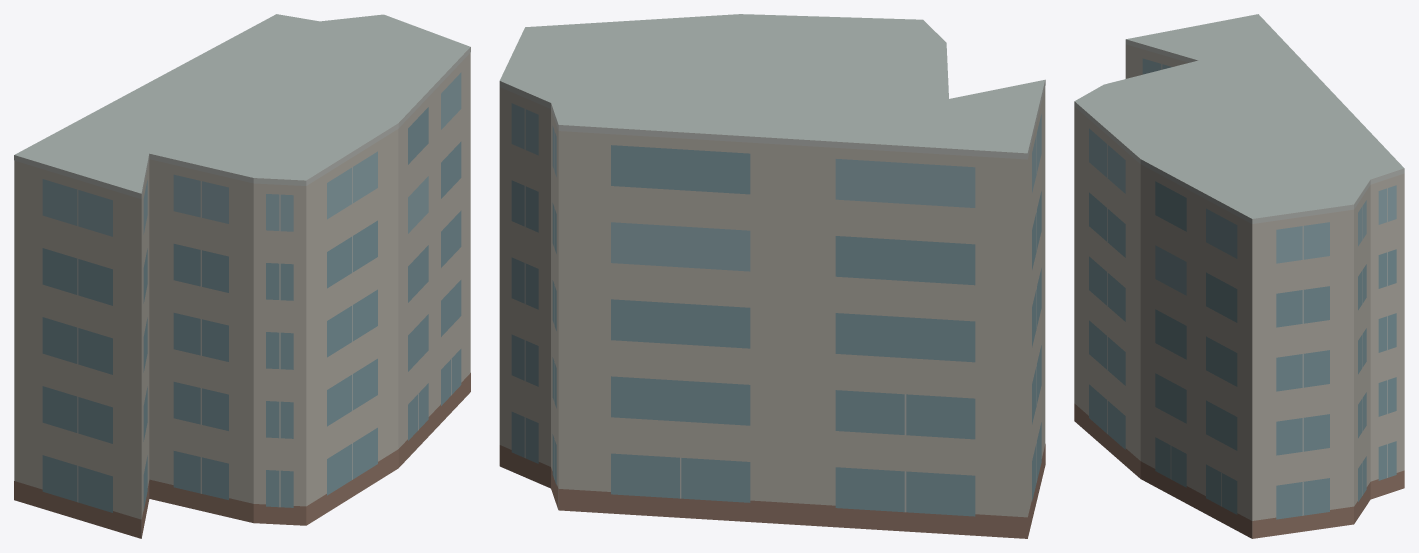
The model's file is residential-9bf0a8ed-4dc3-4db2-a111-f9f5bf4b8100.glb.
The picture shows the model from 3 angles, left to right: view 1: azimuth 30°, elevation 25°; view 2: azimuth 150°, elevation 25°; view 3: azimuth 270°, elevation 25°; orthographic projection. The views are drawn at different scales.
Parts seen in each view (by area): view 1: residential-9bf0a8ed-4dc3-4db2-a111-f9f5bf4b8100.tmp; view 2: residential-9bf0a8ed-4dc3-4db2-a111-f9f5bf4b8100.tmp; view 3: residential-9bf0a8ed-4dc3-4db2-a111-f9f5bf4b8100.tmp.
Boxes of the visible parts, x1,y1,x2,y2 form: residential-9bf0a8ed-4dc3-4db2-a111-f9f5bf4b8100.tmp: (14, 14, 470, 538); residential-9bf0a8ed-4dc3-4db2-a111-f9f5bf4b8100.tmp: (499, 14, 1045, 538); residential-9bf0a8ed-4dc3-4db2-a111-f9f5bf4b8100.tmp: (1074, 14, 1404, 538).
Size of the model in its own units: 20.97 by 15.25 by 14.27.
